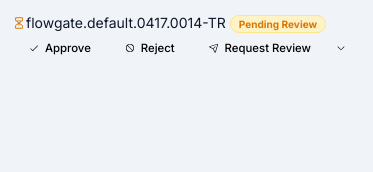
Test: review request caret regression (0417 T0013) › keeps exactly three review request actions in the caret menu
Step 1. Click the button with class "ab-split-caret" → (341, 48), box top-left (327, 33), bottom-right (355, 63)
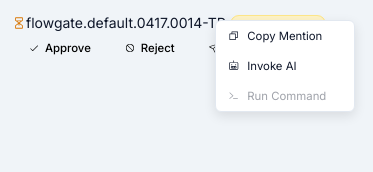
expect the number of buttons with class "ab-split-item" is 3: met, box top-left (216, 21), bottom-right (354, 51); top-left (216, 51), bottom-right (354, 81); top-left (216, 81), bottom-right (354, 111)
